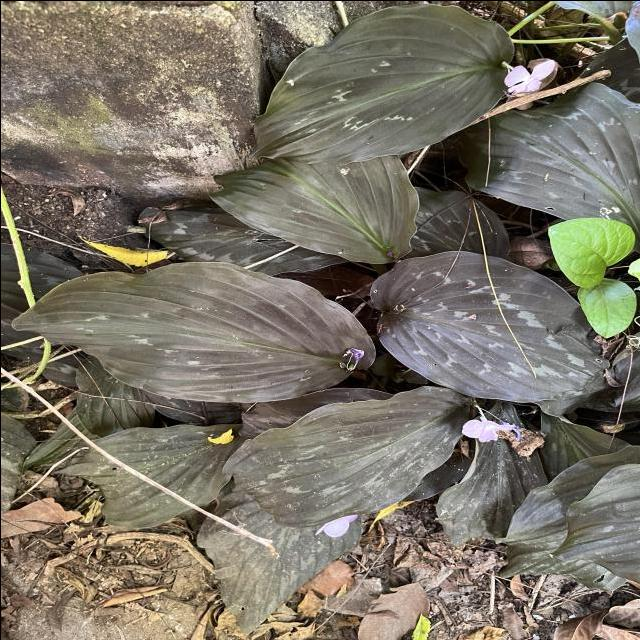Kaempferia galanga linn: (9, 260, 378, 404), (244, 1, 516, 167), (368, 247, 614, 403), (219, 384, 473, 528)
